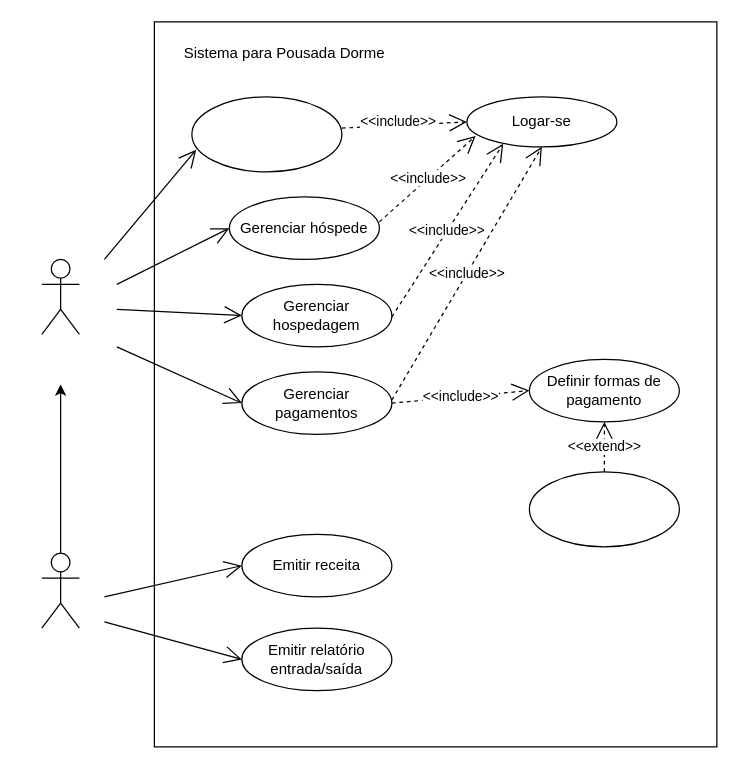
The diagram is 739 pixels wide and 769 high, and some of its shapes have lost their labels. The shapes that lost their labels are listed below. From the top down, each one's box as (x1, y1, x2, y2) in pixels, then its label:
(191, 96, 342, 172): Gerenciar datas entrada/saída
(41, 258, 79, 334): Funcionário
(528, 471, 679, 547): Optar por cartão, pix ou dinheiro
(41, 552, 79, 628): Gerente
